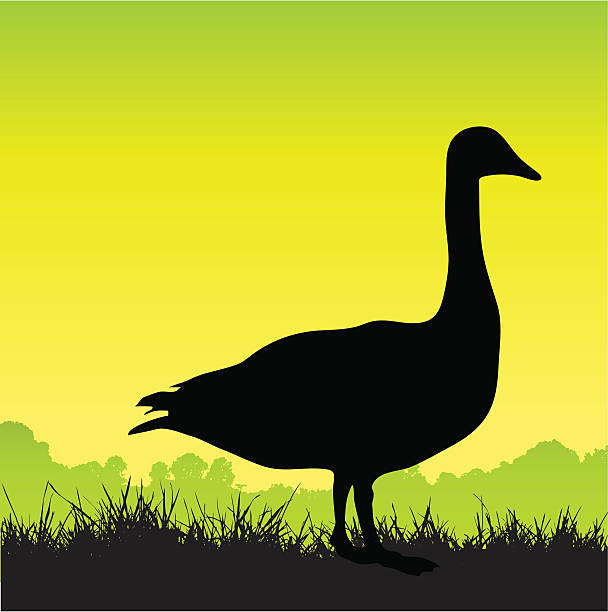goose: (122, 122, 545, 580)
